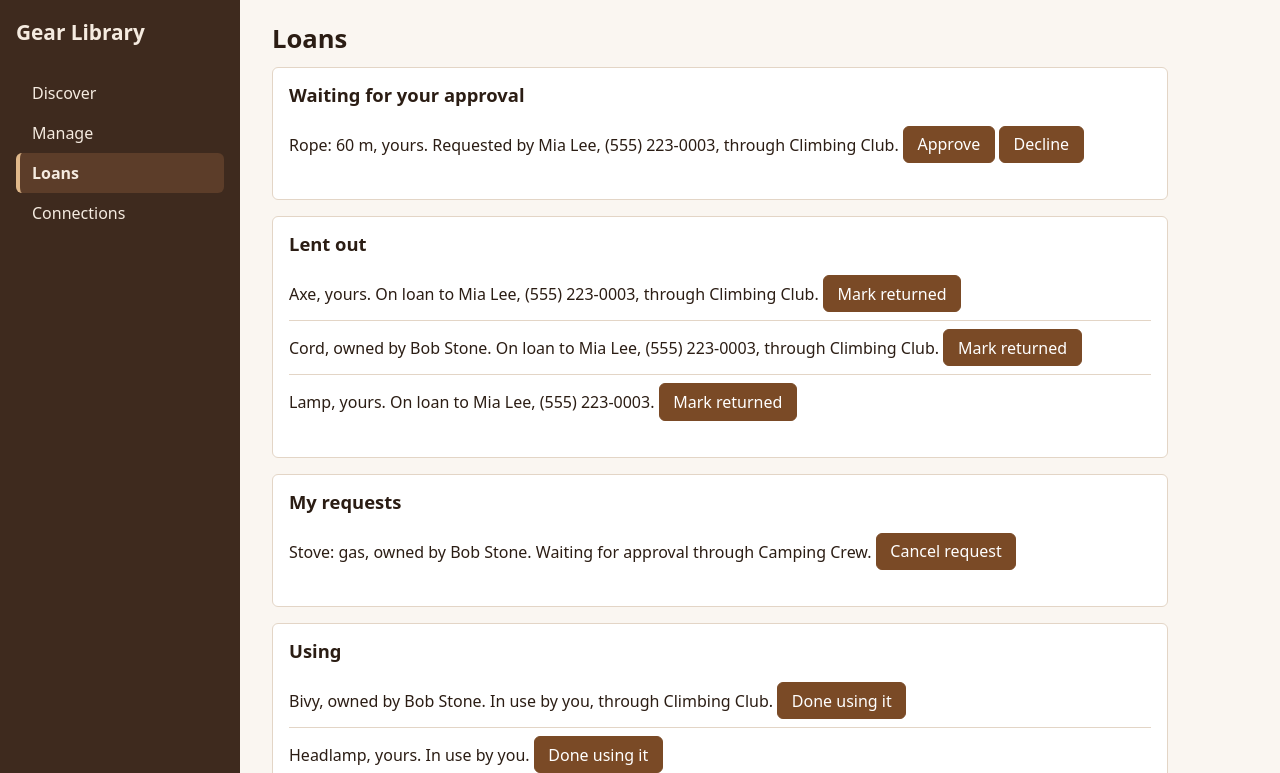
Scenario: my requests and borrowed › shows why a cancel was refused
Expected: the heading "Loans" is shown, x1=272 y1=21 x2=347 y2=56
Click the button with aria-label "Cancel request: Stove" at (946, 551), box x1=876 y1=533 x2=1016 y2=570
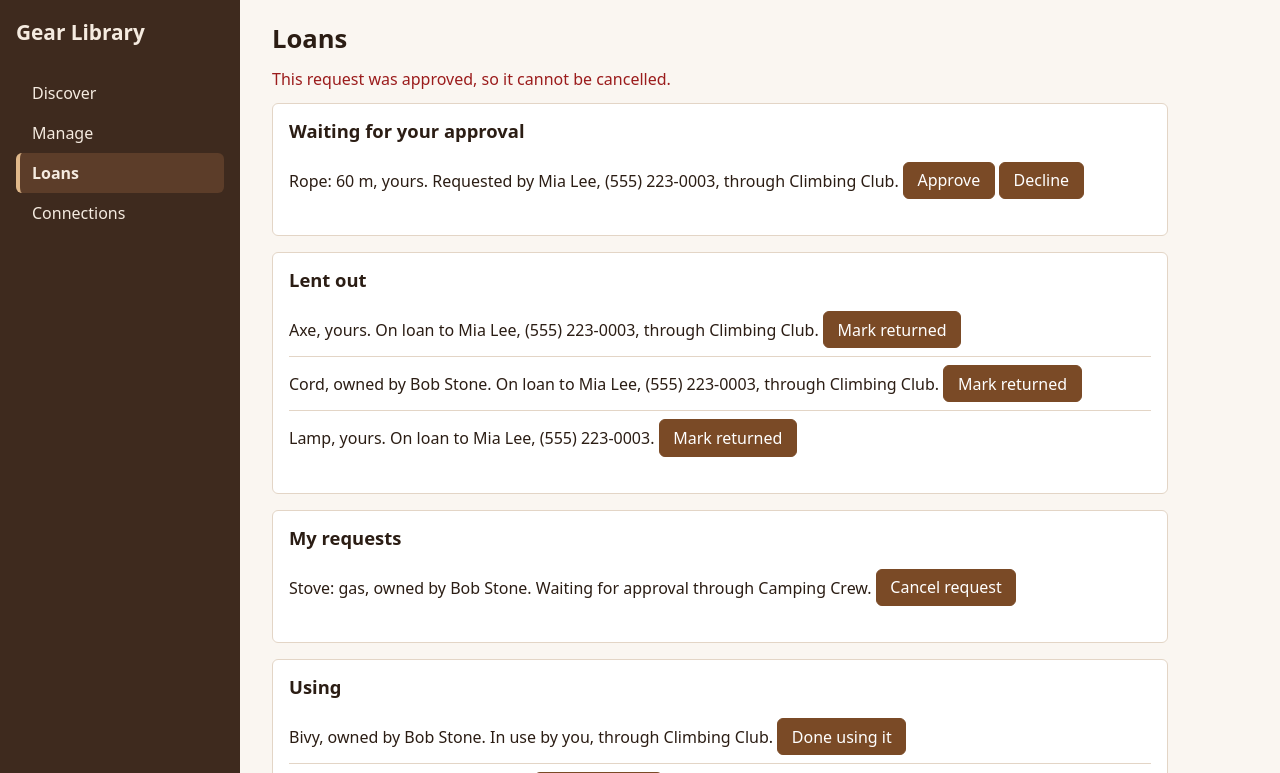
Result: the message reads "This request was approved, so it cannot be cancelled." at x1=272 y1=68 x2=671 y2=90
